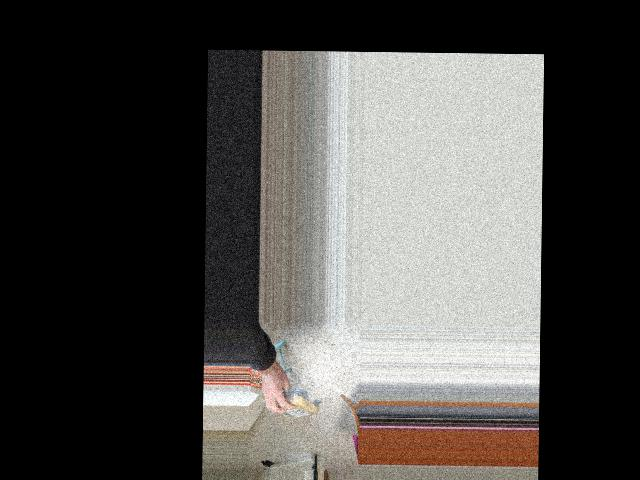cheese: (268, 387, 322, 420)
